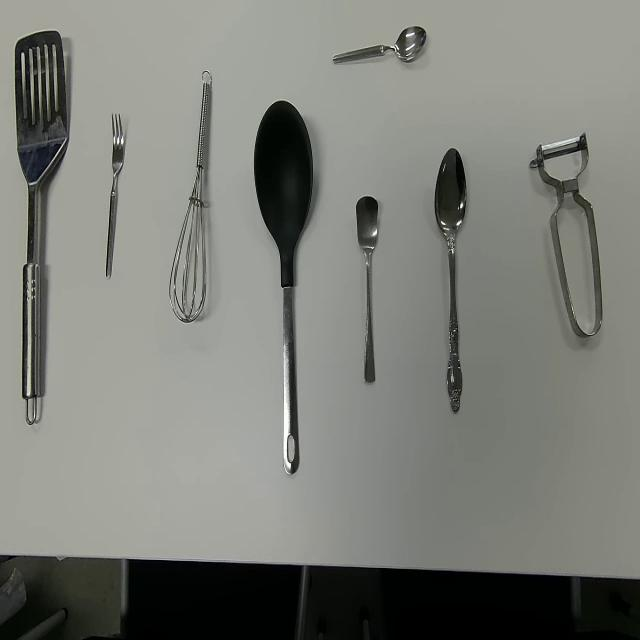Desert-Spoon: (434, 146, 468, 416)
Dinner-Fork: (104, 112, 125, 280)
Peeler: (528, 130, 603, 338)
Serving-Spoon: (253, 98, 314, 477), (13, 28, 69, 426)
Tea-Spoon: (355, 195, 379, 385), (331, 24, 427, 66)
Whisk: (168, 69, 213, 324)
